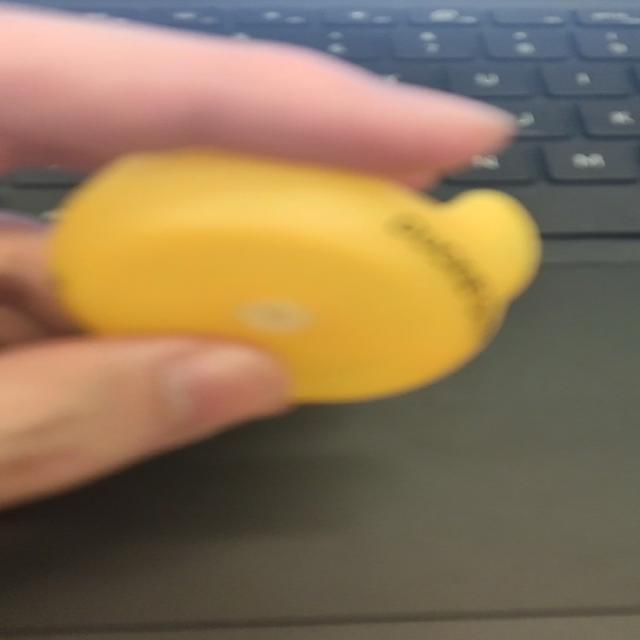rubber-duck: (53, 151, 538, 400)
